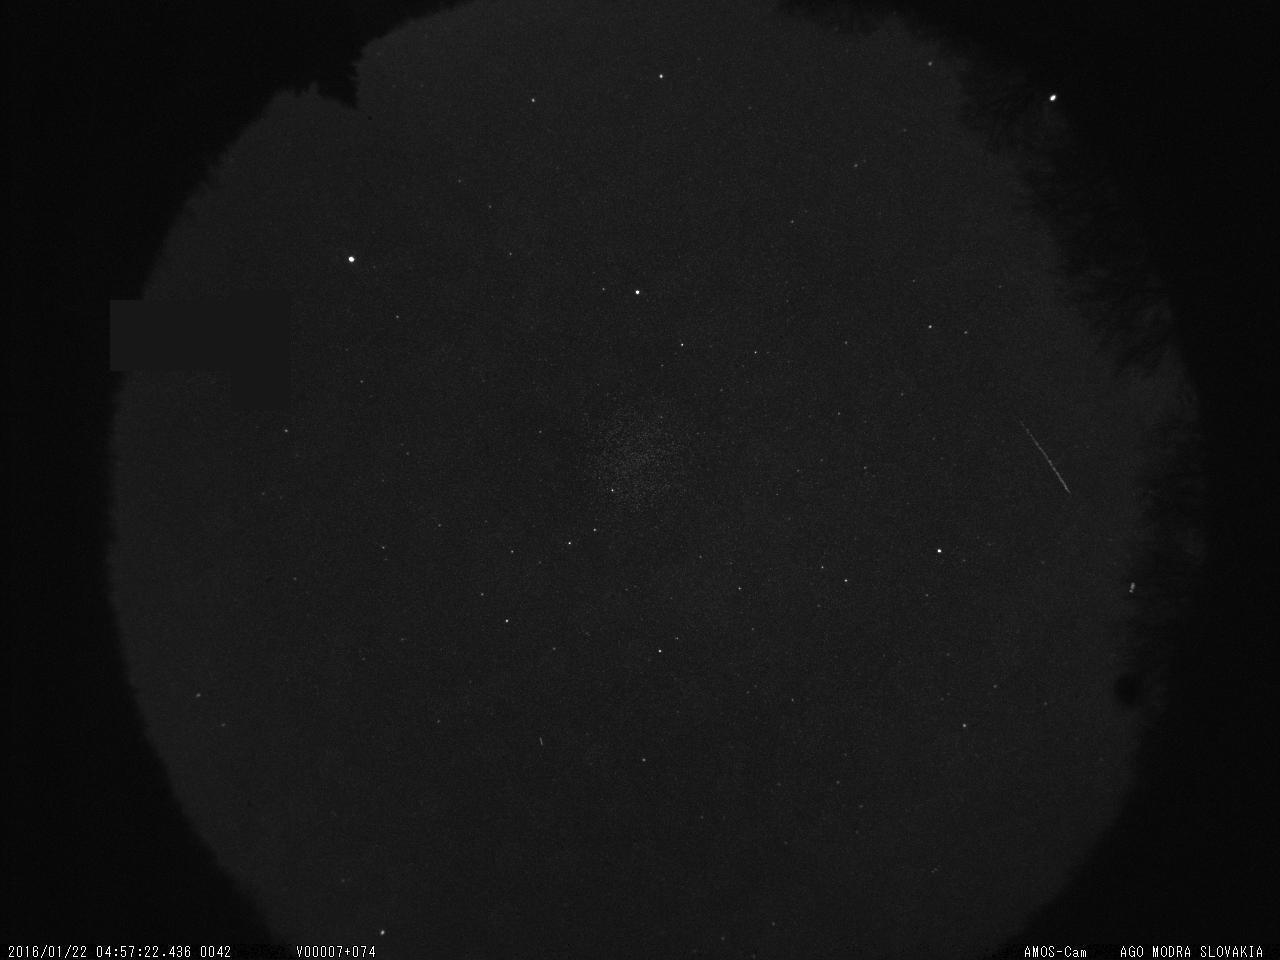Meteor: (1014, 412, 1080, 504)
